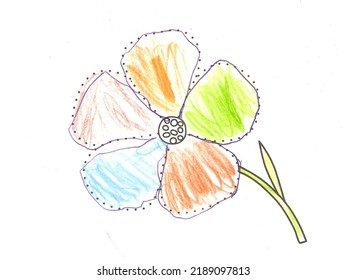flower: (64, 26, 311, 246)
